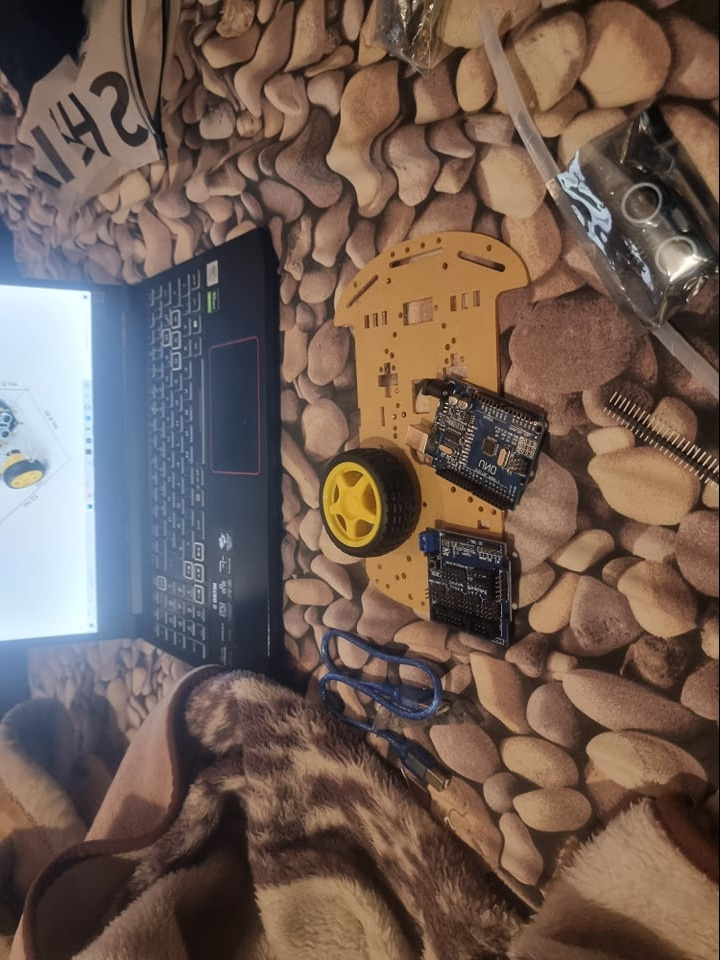5V EXPANSION: (419, 526, 513, 646)
SENSOR: (621, 181, 710, 291)
UNO R3: (404, 372, 551, 514)
